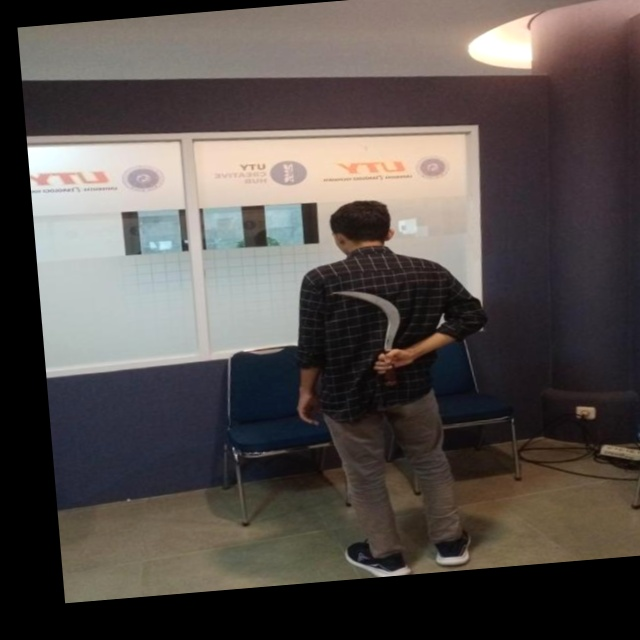Sharp-Object: (325, 273, 420, 381)
